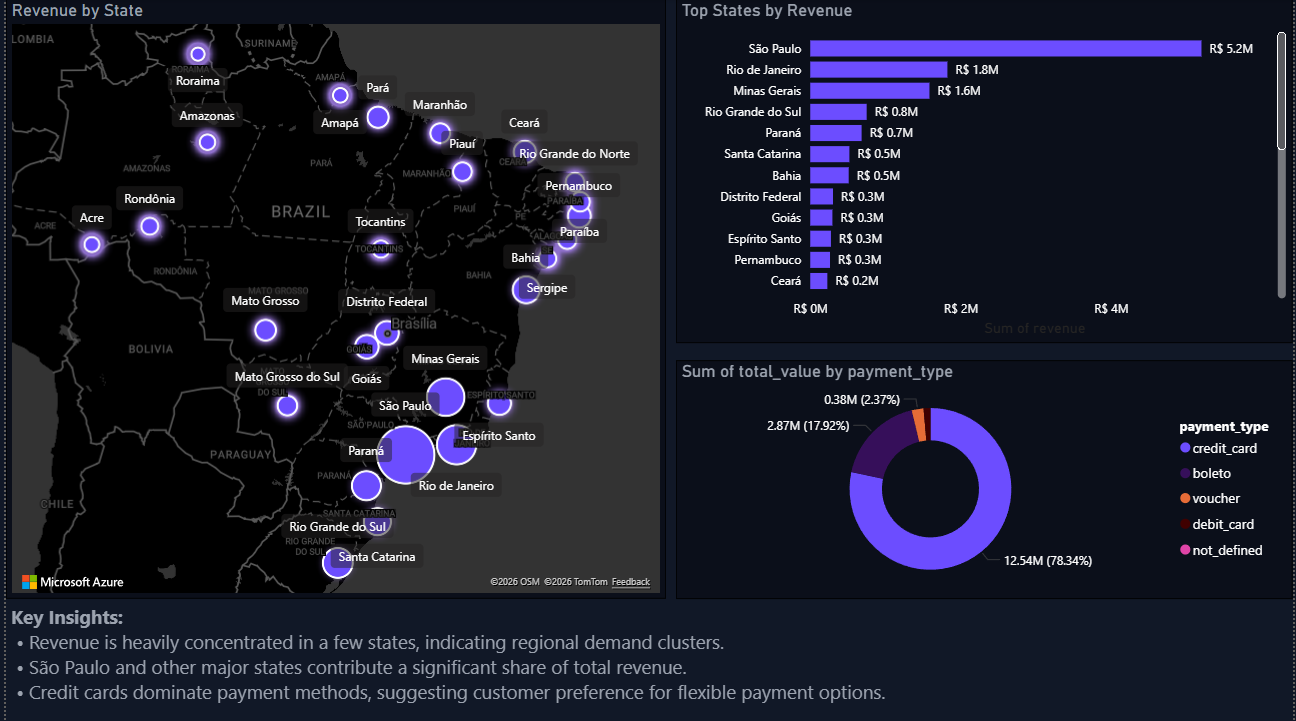

This screenshot's page, from the dashboard's own definition file:
{"tool":"powerbi","page":{"name":"Regional & Payments Analysis","canvas":[1280,720],"ordinal":2},"visuals":[{"type":"azureMap","title":"Revenue by State","fields":{"Category":["state_revenue.state_name"],"Size":["Sum(state_revenue.revenue)"]},"box":[0,0,656.8,597.1],"z":0},{"type":"clusteredBarChart","title":"Top States by Revenue","fields":{"Category":["state_revenue.state_name"],"Y":["Sum(state_revenue.revenue)"]},"box":[666.8,0,613.3,342.1],"z":1},{"type":"donutChart","fields":{"Category":["payment_analysis.payment_type"],"Y":["Sum(payment_analysis.total_value)"]},"box":[666.8,359.5,613.3,237.6],"z":2},{"type":"textbox","box":[0,597.1,1280,123.2],"z":3}]}

Visuals, with their boxes in screenshot pixels (x1, y1, x2, y2), scaled from the page's 1280x720 canvas onto the 1296x721 screenshot:
"Revenue by State" azureMap: {"left": 0, "top": 0, "right": 665, "bottom": 598}
"Top States by Revenue" clusteredBarChart: {"left": 675, "top": 0, "right": 1295, "bottom": 343}
donutChart - payment_analysis.payment_type x Sum(payment_analysis.total_value): {"left": 675, "top": 360, "right": 1295, "bottom": 598}
textbox: {"left": 0, "top": 598, "right": 1295, "bottom": 720}
